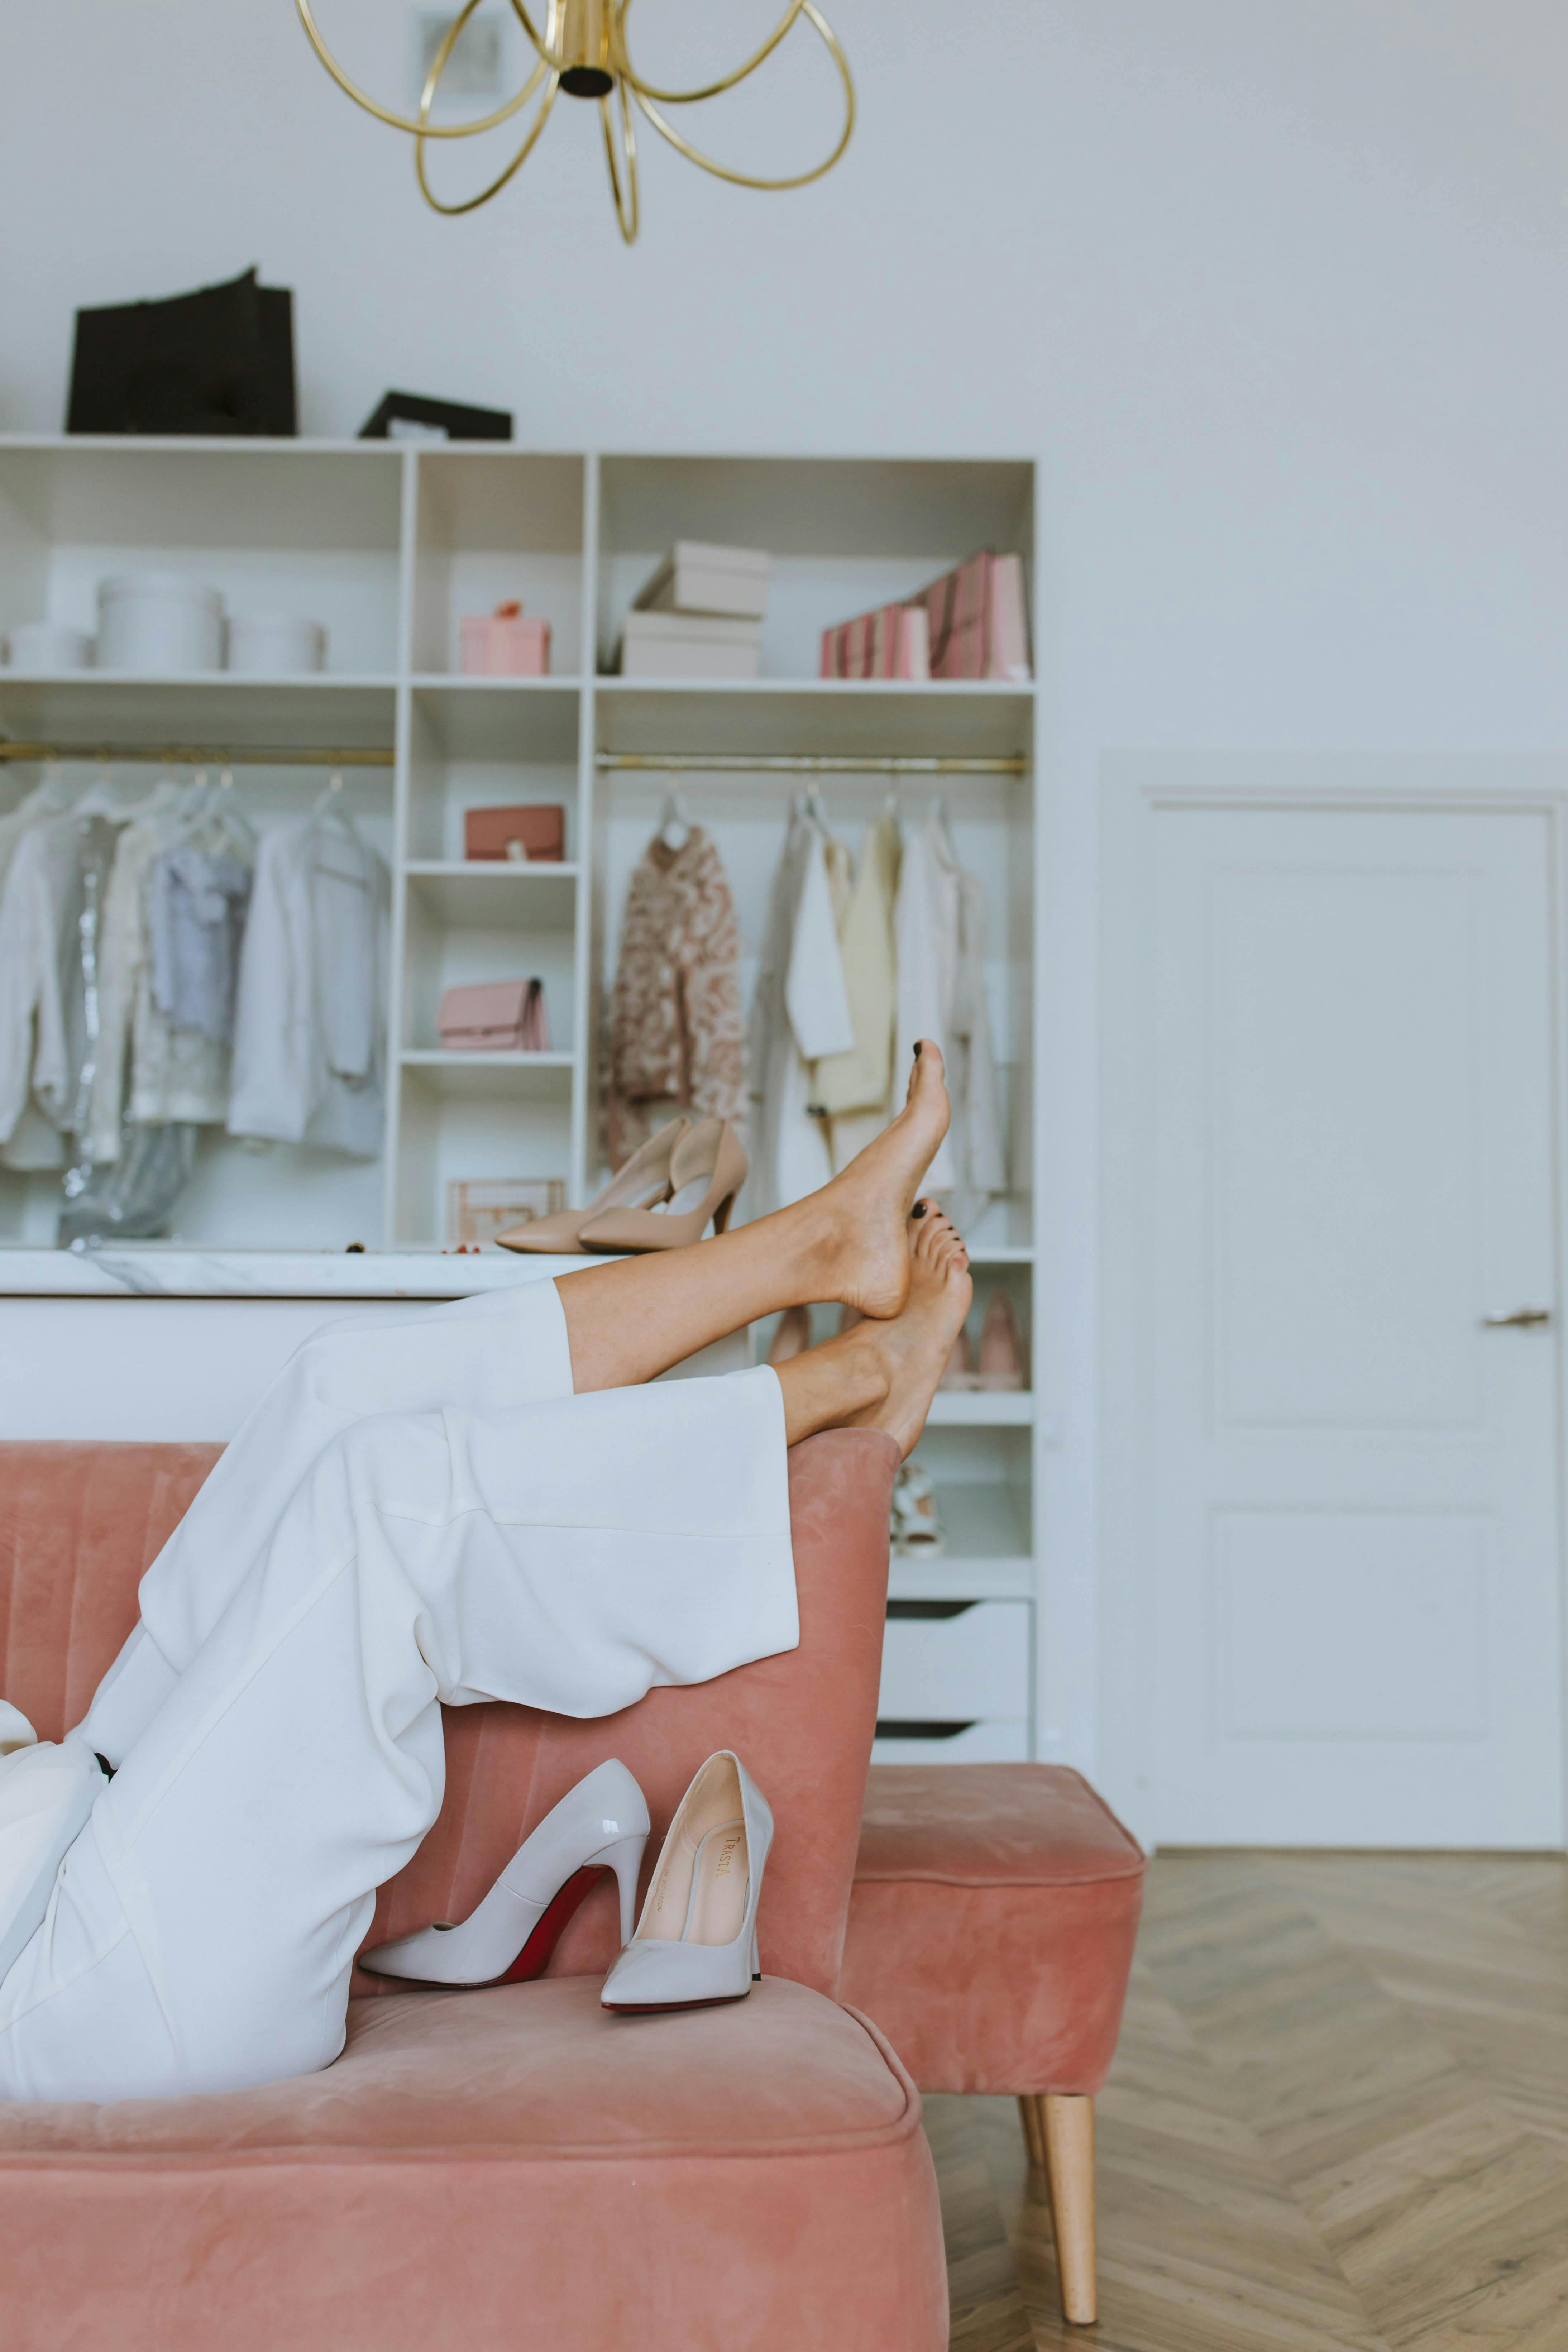Footwear: (359, 1731, 796, 2028)
